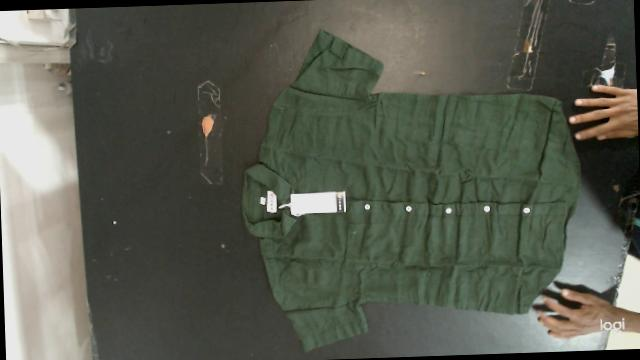new-garment: (242, 31, 580, 350)
